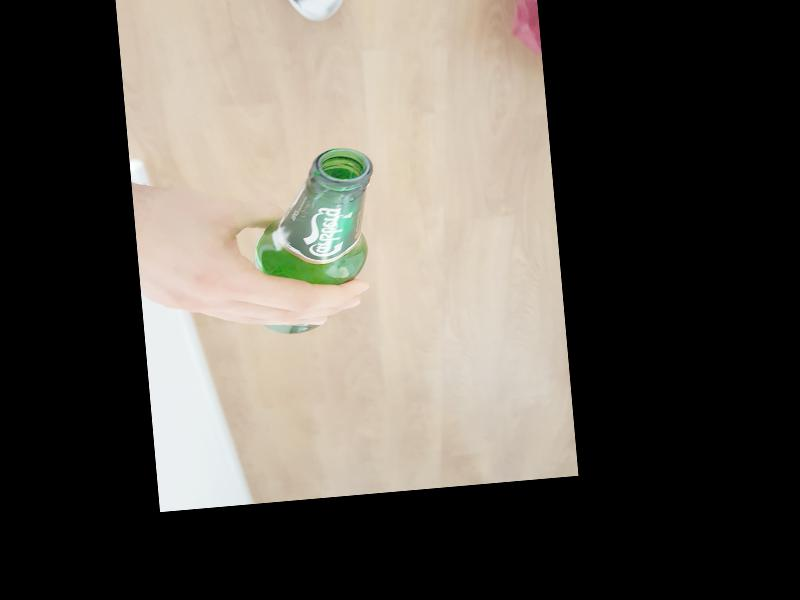Beer: (246, 145, 388, 336)
